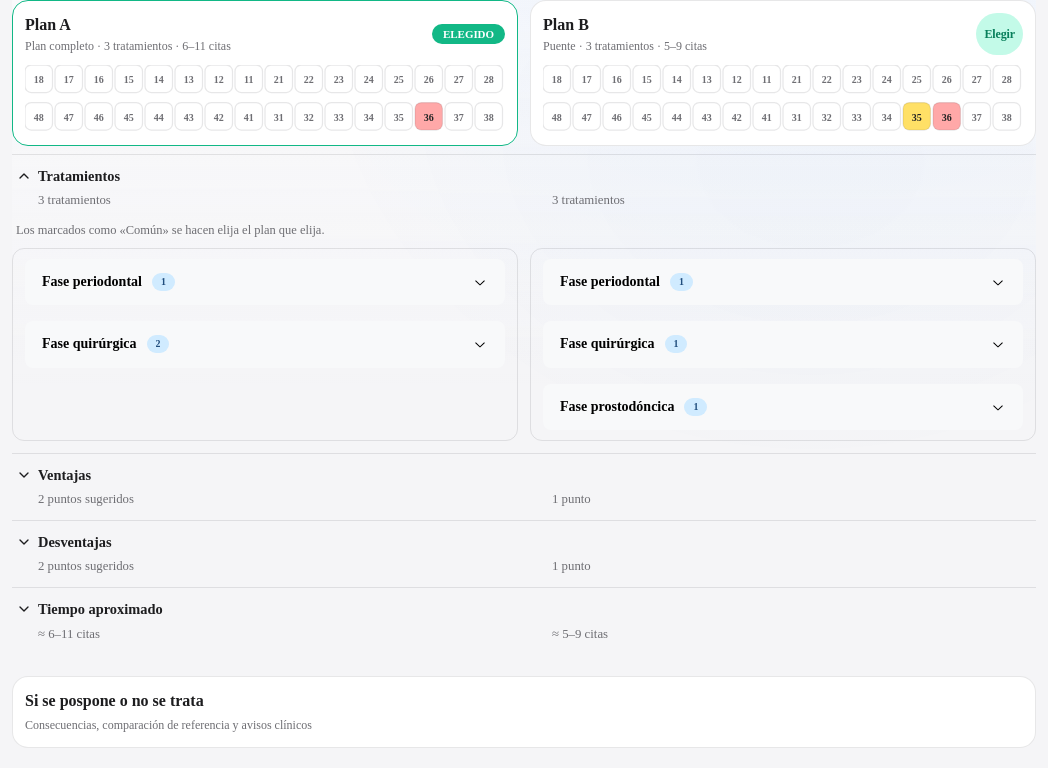
Test: PlanAlternativesBoard › suggests pros and cons when the plan has none written, and never shows 'Sin indicar'
Click the button "Ventajas 2 puntos sugeridos 1 punto" at [65, 475], box [12,453,1036,520]
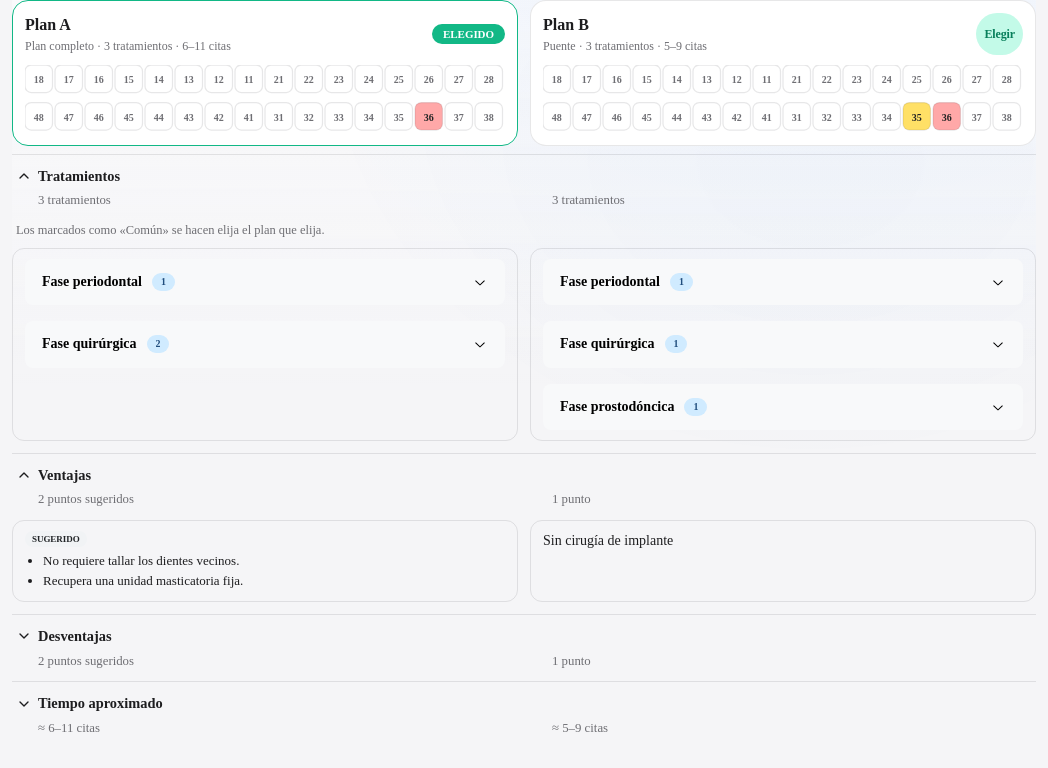
Result: the element named "Ventajas del Plan A" shows "Sugerido" at [32,534,80,544]
Result: the element named "Ventajas del Plan A" shows "No requiere tallar los dientes vecinos." at [43,553,239,568]
Result: the element named "Ventajas del Plan B" reads "Sin cirugía de implante" at [543,533,673,548]
